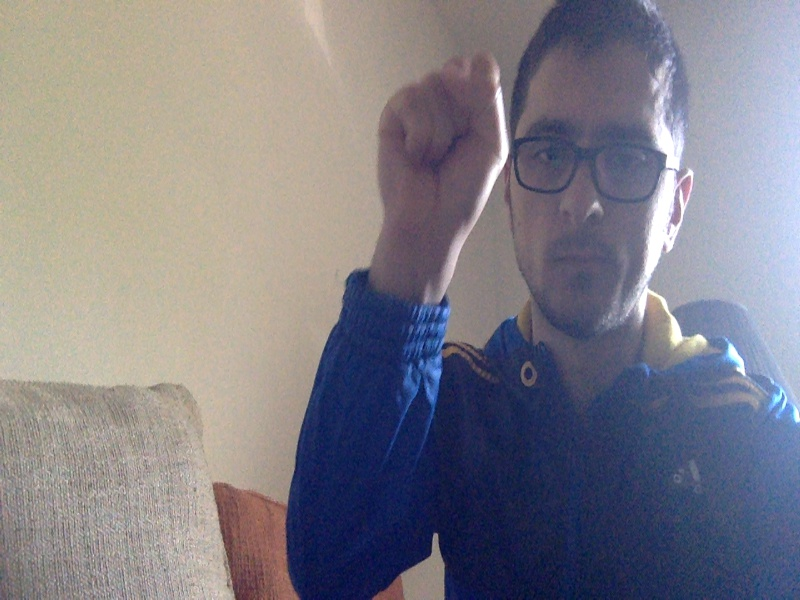0-hand: (378, 56, 509, 239)
